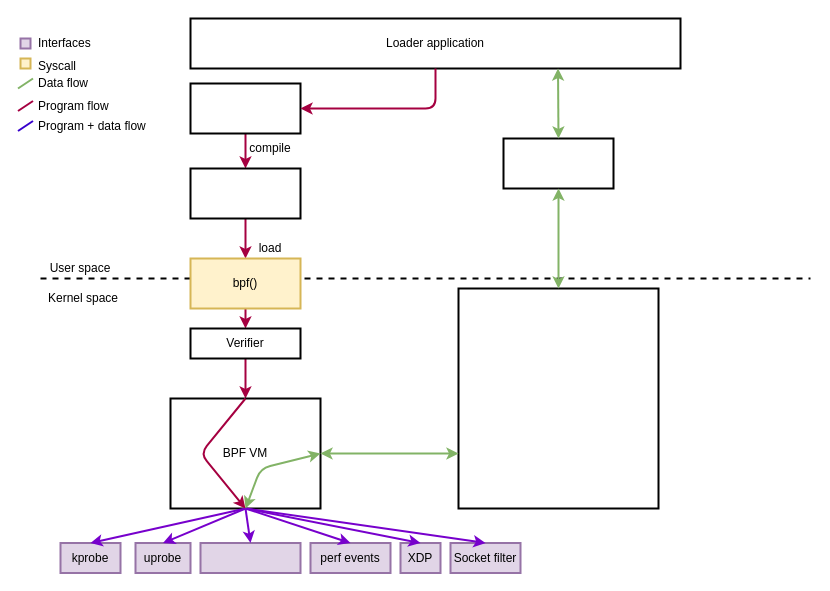
This 830x591 diagram has some shape labels left out. Here are the shapes that lost their labels. From the top down, the centre of each, then its label:
the point at 245,108: BPF source
the point at 558,163: Maps data
the point at 245,193: BPF ELF
the point at 558,398: Maps
the point at 250,558: static tracepoint
